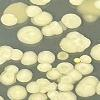white: (59, 30, 92, 55), (1, 1, 31, 24), (15, 24, 44, 46), (75, 0, 100, 25), (74, 75, 100, 98), (40, 20, 64, 39), (29, 10, 53, 28), (61, 12, 83, 31), (5, 84, 29, 100), (35, 50, 56, 67), (73, 61, 95, 76), (46, 90, 79, 100), (15, 67, 34, 84), (86, 41, 100, 64), (20, 50, 40, 66), (23, 3, 44, 18), (0, 13, 20, 28), (54, 61, 76, 74), (58, 75, 74, 92), (35, 77, 51, 94), (46, 67, 64, 82), (0, 71, 18, 86), (64, 68, 83, 82), (0, 45, 13, 65), (54, 18, 70, 33), (24, 81, 42, 94), (9, 47, 24, 61), (74, 53, 93, 64), (3, 62, 19, 74), (27, 0, 54, 7), (36, 63, 53, 74), (26, 93, 50, 100), (46, 80, 59, 92), (56, 50, 70, 61), (68, 0, 85, 7), (93, 80, 100, 97), (71, 56, 83, 64), (94, 0, 100, 12), (0, 93, 6, 100)
